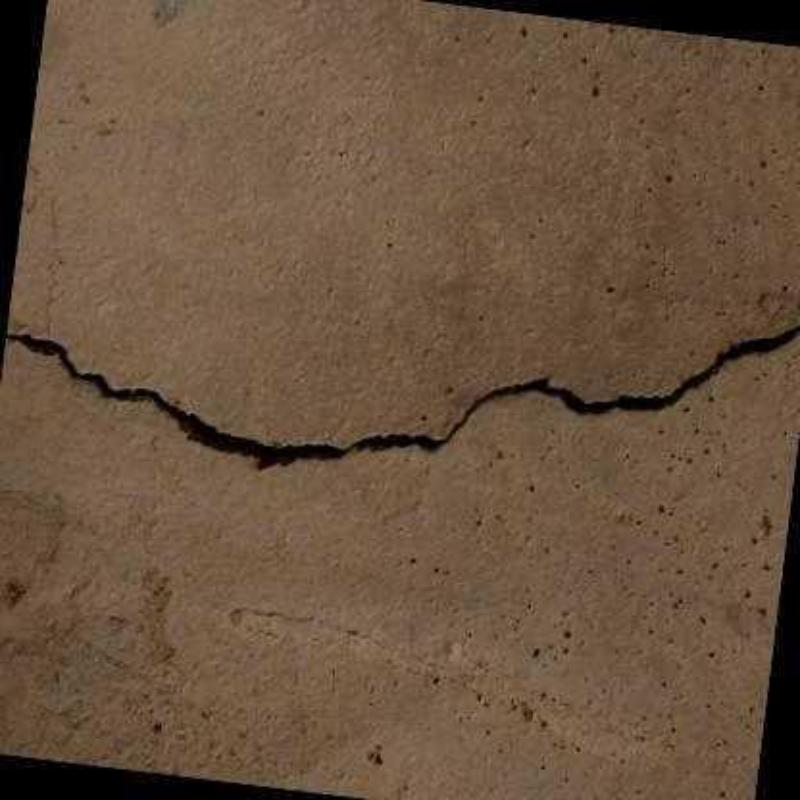pothole: (5, 321, 800, 470)
